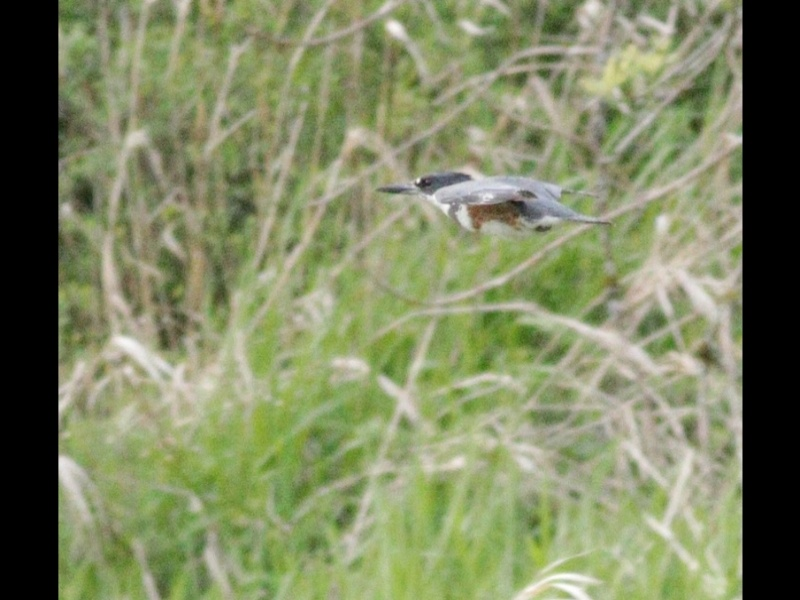kingfisher: (373, 168, 617, 237)
